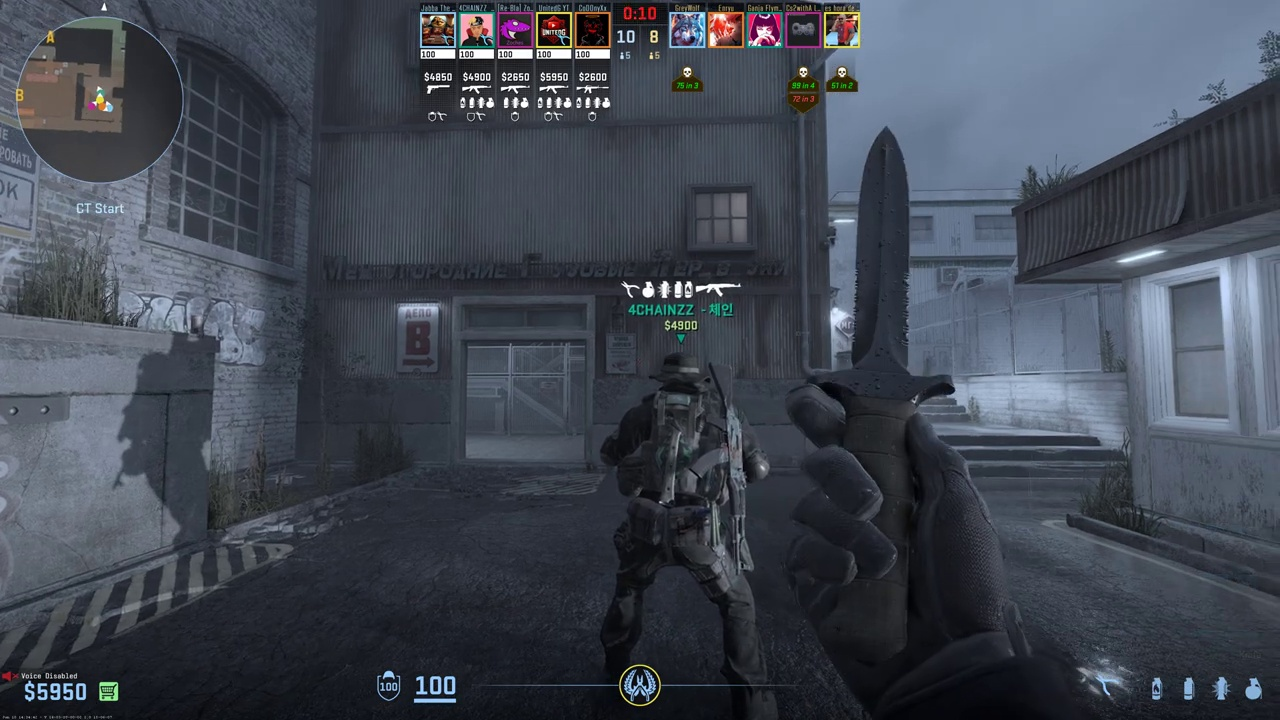CT: (609, 352, 763, 679)
